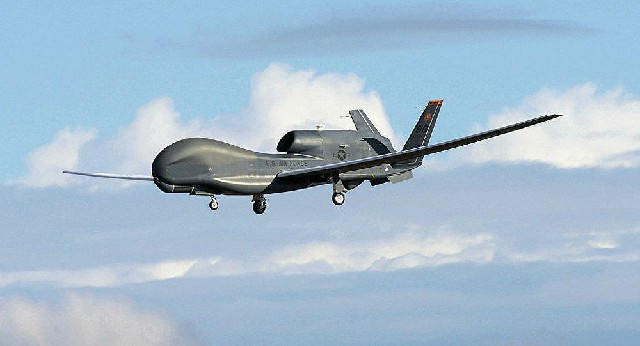maybay_khongnguoilai: (68, 114, 562, 208)
